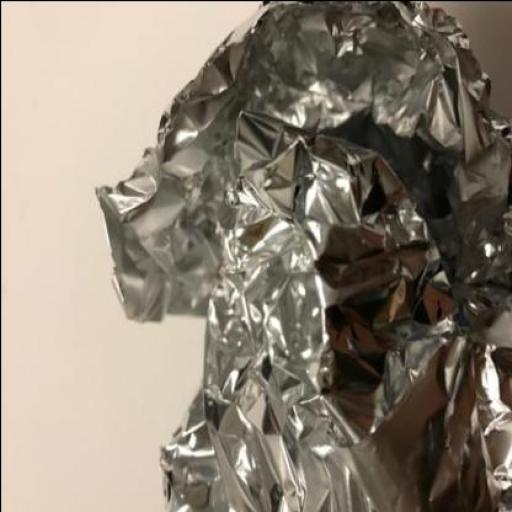metal: (92, 1, 512, 511)
